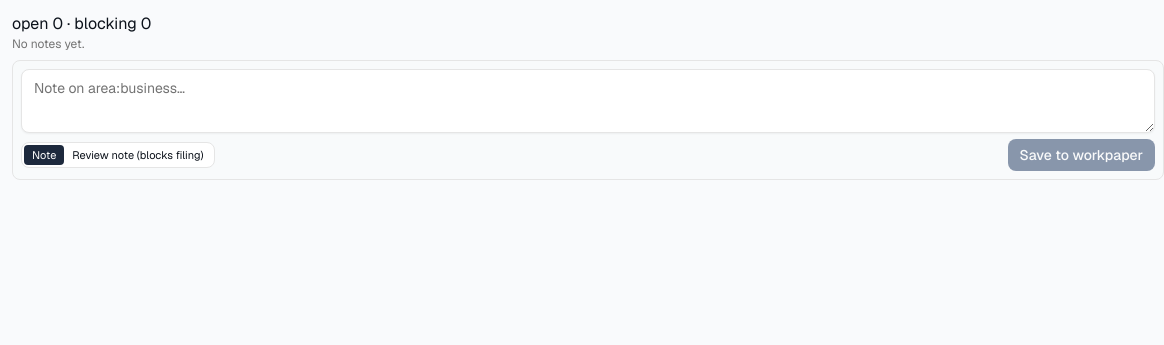
Scenario: area counts after note edits › follow a new review note and its resolution without a reload
Expected: the text with test id "counts" reads "open 0 · blocking 0", top-left (12, 13), bottom-right (151, 34)
Click the button "Review note (blocks filing)" at (138, 155), box top-left (64, 145), bottom-right (212, 165)
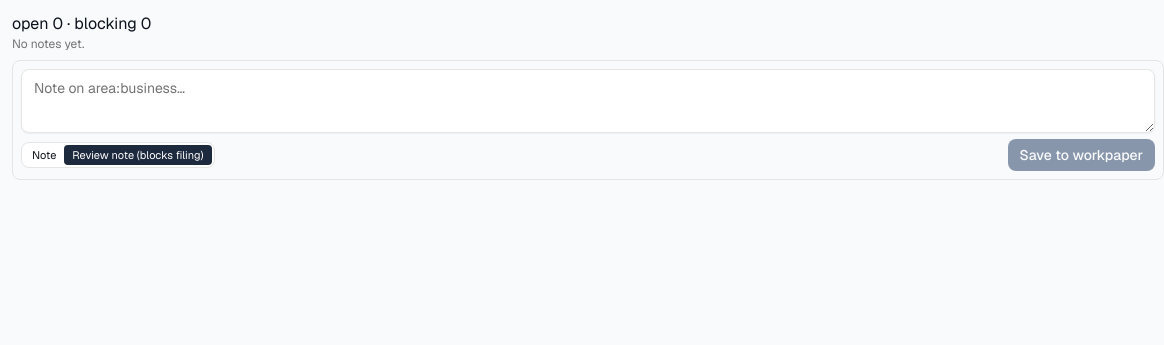
Type "Explain the 12,400" into the text box with placeholder "Note on area:business…" at (588, 101), box top-left (21, 69), bottom-right (1155, 133)
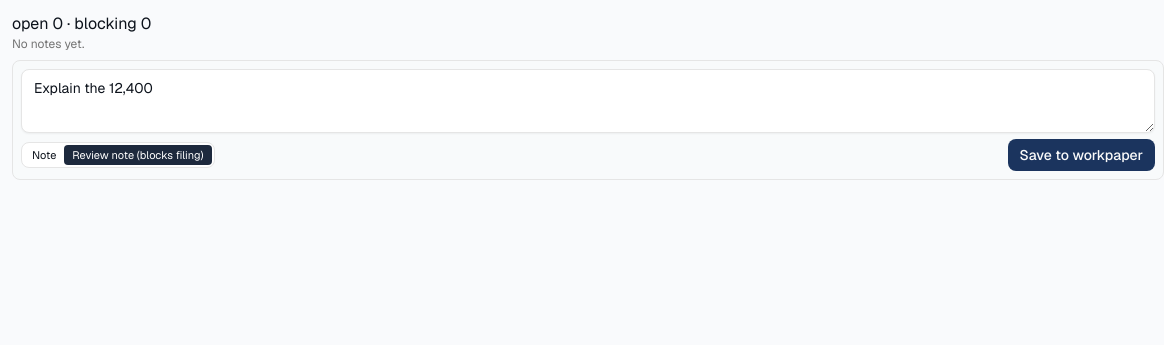
Click the button "Save to workpaper" at (1081, 155), box top-left (1008, 139), bottom-right (1155, 171)
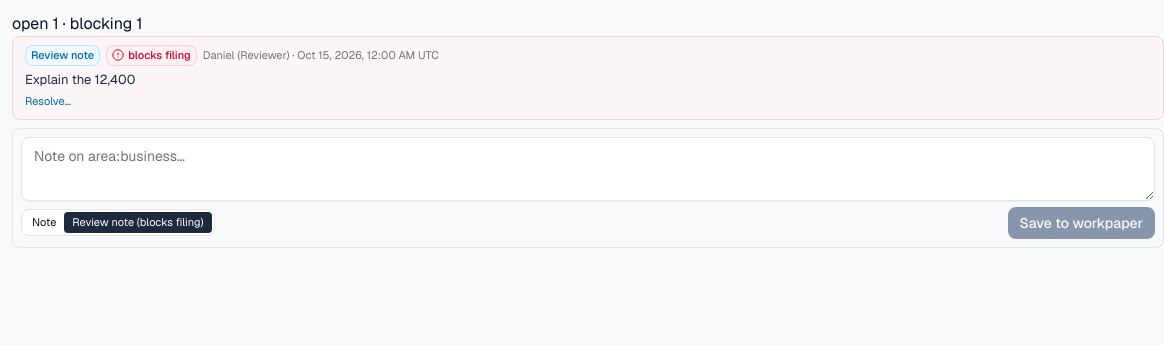
Expected: the text with test id "counts" reads "open 1 · blocking 1", top-left (12, 13), bottom-right (142, 34)
Click the button "Resolve…" at (48, 101), box top-left (25, 93), bottom-right (71, 110)
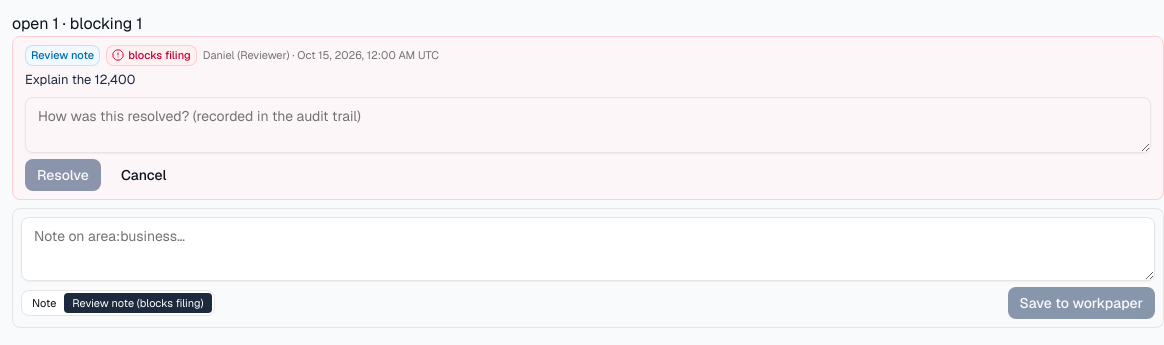
Type "Agreed to D15" into the text box with placeholder "How was this resolved? (recorded in the audit trail)" at (588, 125), box top-left (25, 97), bottom-right (1151, 153)
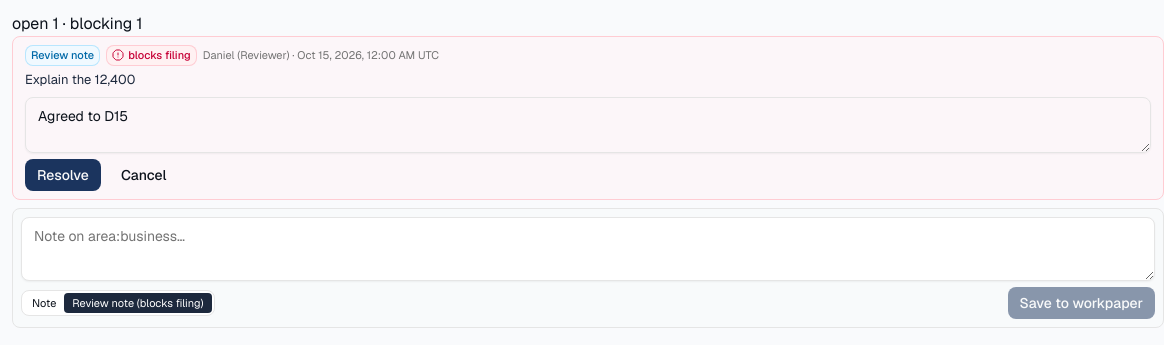
Click the button "Resolve" at (63, 175), box top-left (25, 159), bottom-right (101, 191)
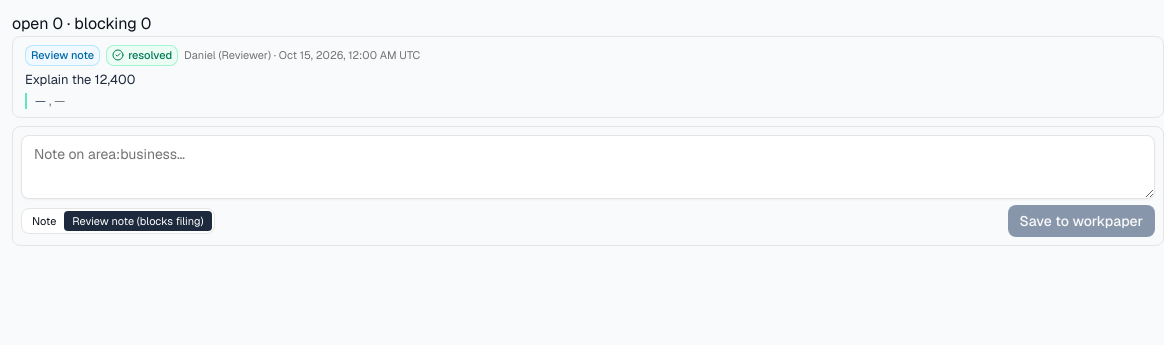
Expected: the text with test id "counts" reads "open 0 · blocking 0", top-left (12, 13), bottom-right (151, 34)
